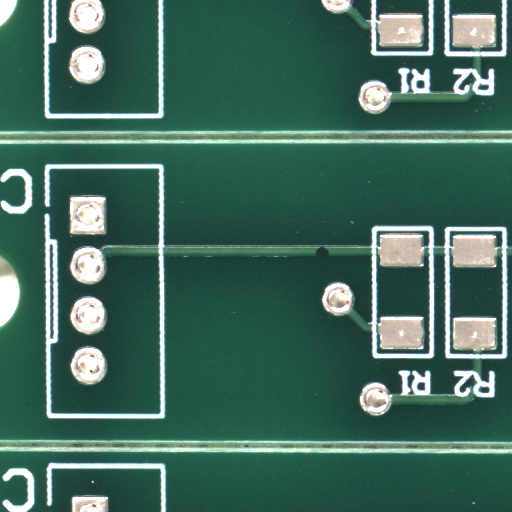Mouse_bite: (322, 252, 336, 263)
